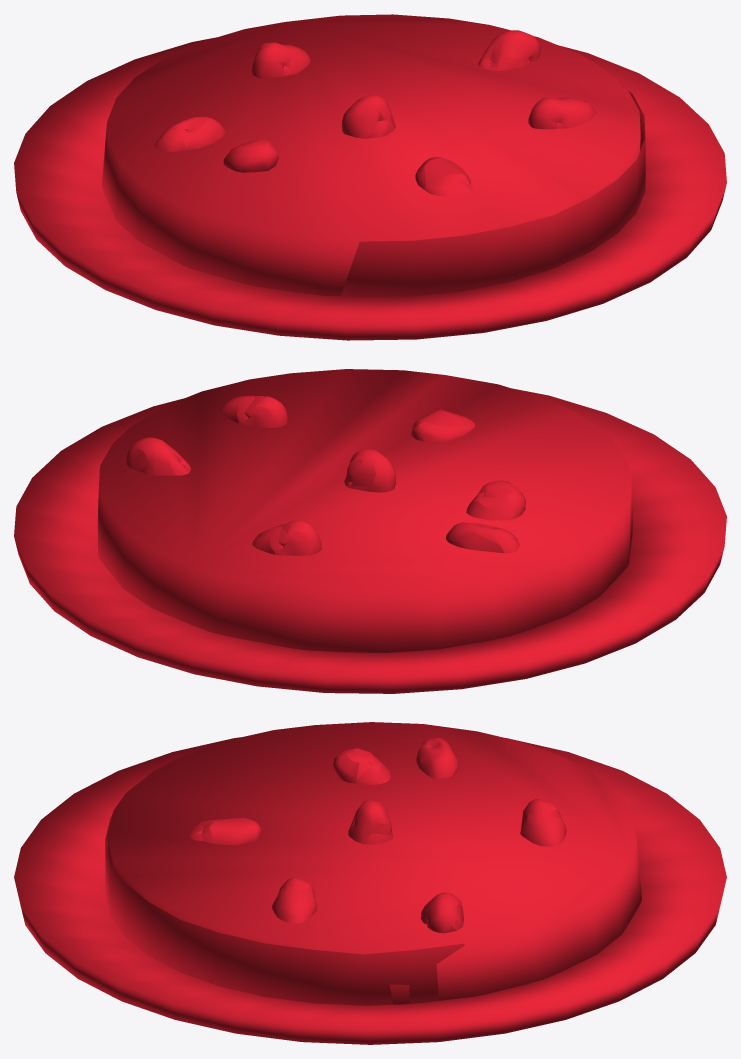
File: potatoTortilla.fbx
The picture shows the model from 3 angles, top to bottom: view 1: azimuth 30°, elevation 25°; view 2: azimuth 150°, elevation 25°; view 3: azimuth 270°, elevation 25°; orthographic projection.
Parts seen in each view (by area): view 1: potatoTortilla; view 2: potatoTortilla; view 3: potatoTortilla.
Part boxes in pixels (box(x1,y1,x2,y2)): potatoTortilla: box(14, 14, 726, 340); potatoTortilla: box(14, 369, 726, 693); potatoTortilla: box(14, 722, 726, 1044).
Bounding box in the file's own units: 178 × 35.41 × 178.
